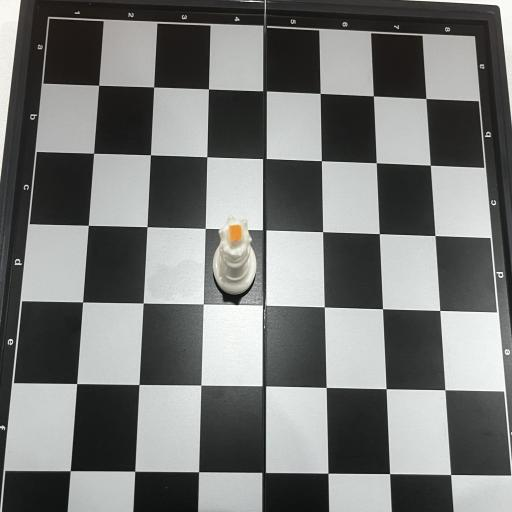White queen: (212, 216, 256, 294)
